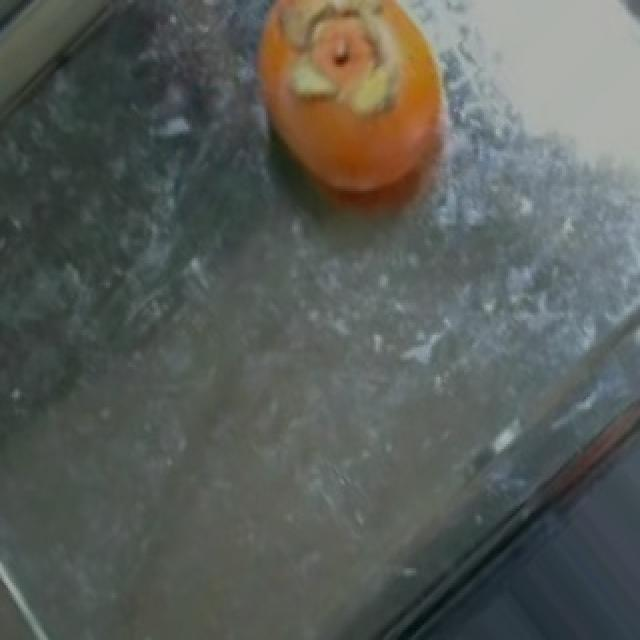Fruit: (228, 0, 476, 238)
